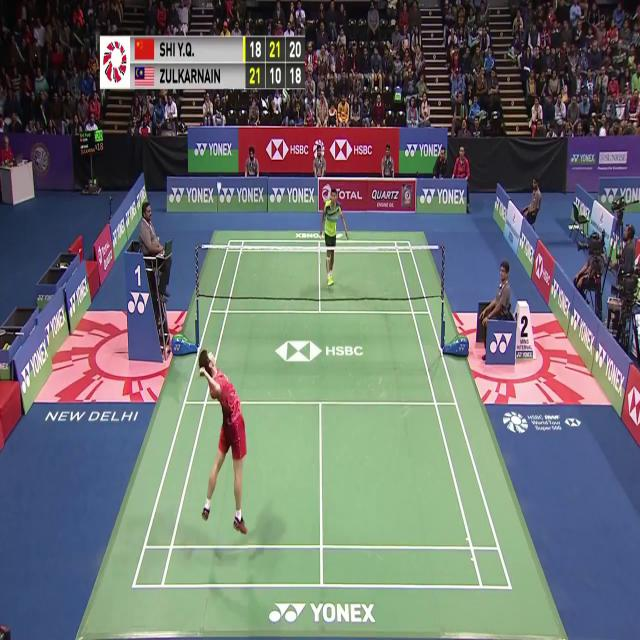Shuttlecock: (215, 185, 221, 197)
